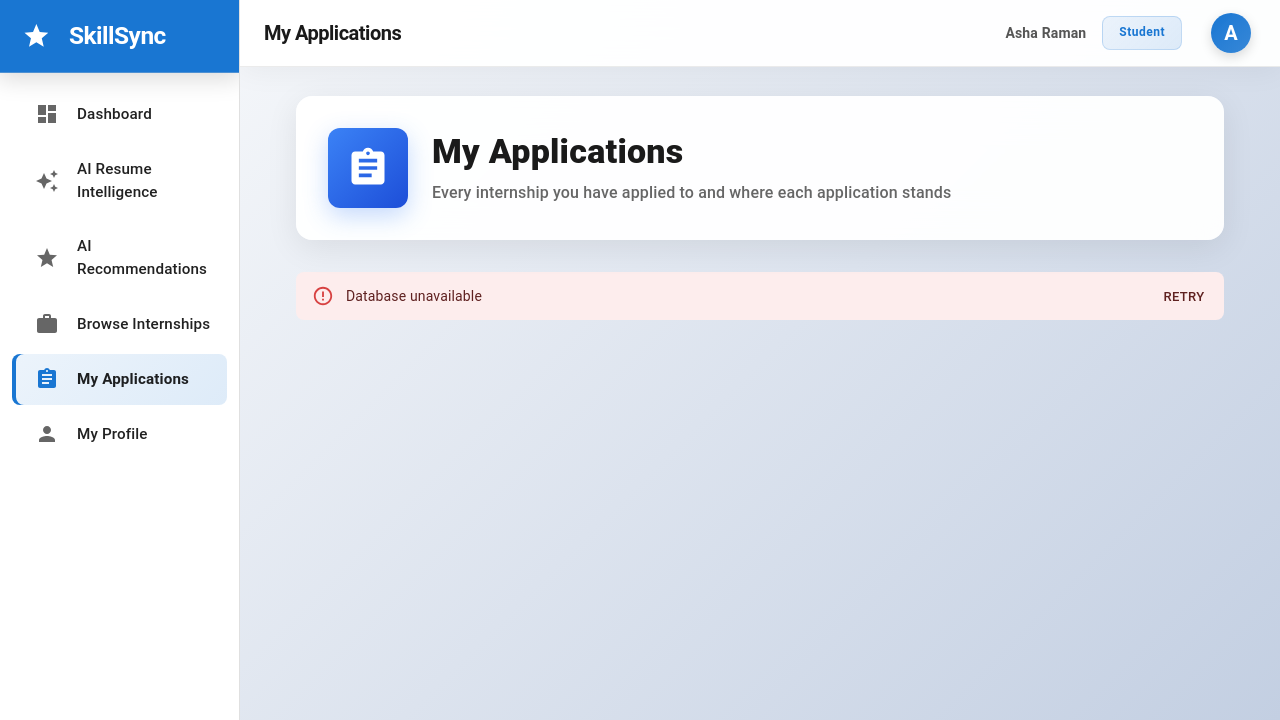
Test: a failed load shows the reason and retries on request
Expected: the text "Database unavailable" is shown, [346, 288, 482, 304]
Click the button "Retry". click: coordinates (1184, 297)
box: [1152, 282, 1216, 313]
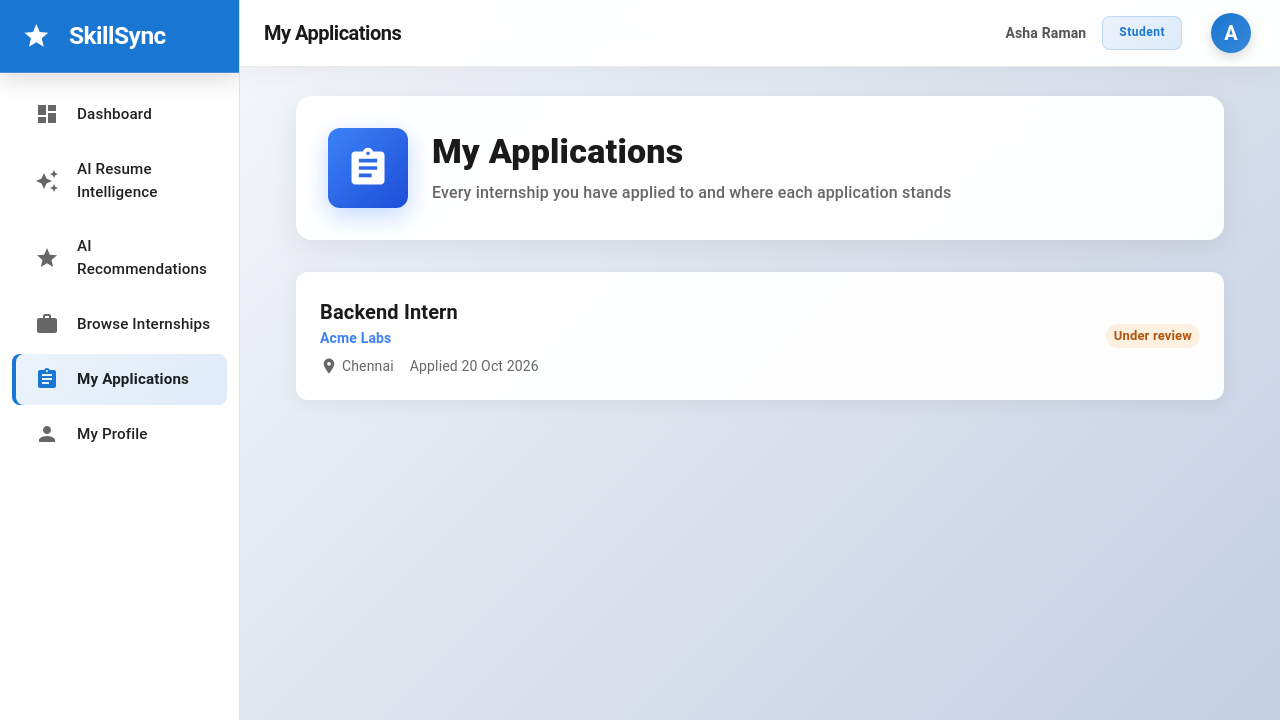
Result: the heading "Backend Intern" is shown at [320, 300, 458, 324]
Result: the text "Database unavailable" is gone
